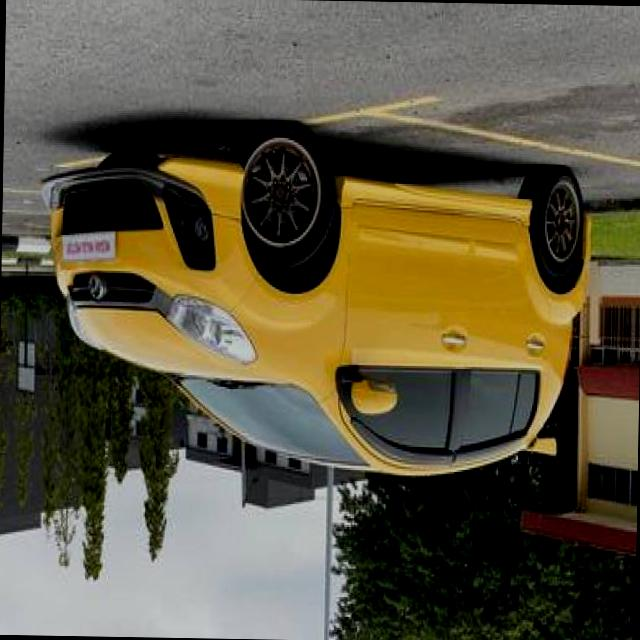PeroduaMyvi: (35, 115, 596, 483)
